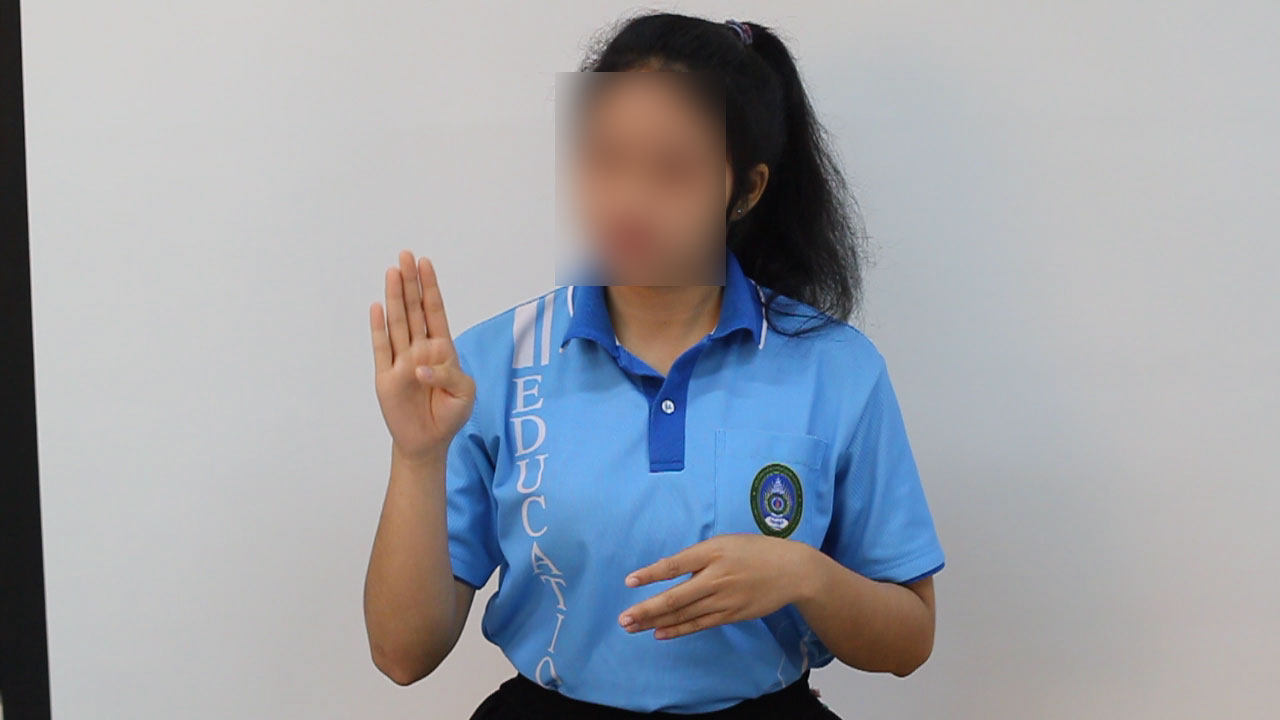bor: (343, 240, 499, 483)
